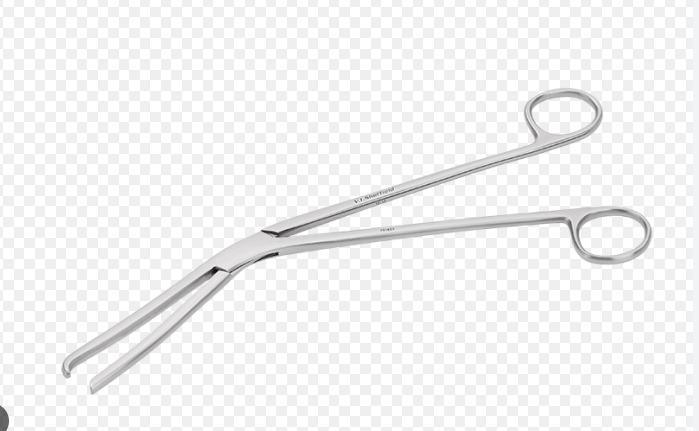Cheatle Forceps: (60, 81, 655, 397)
